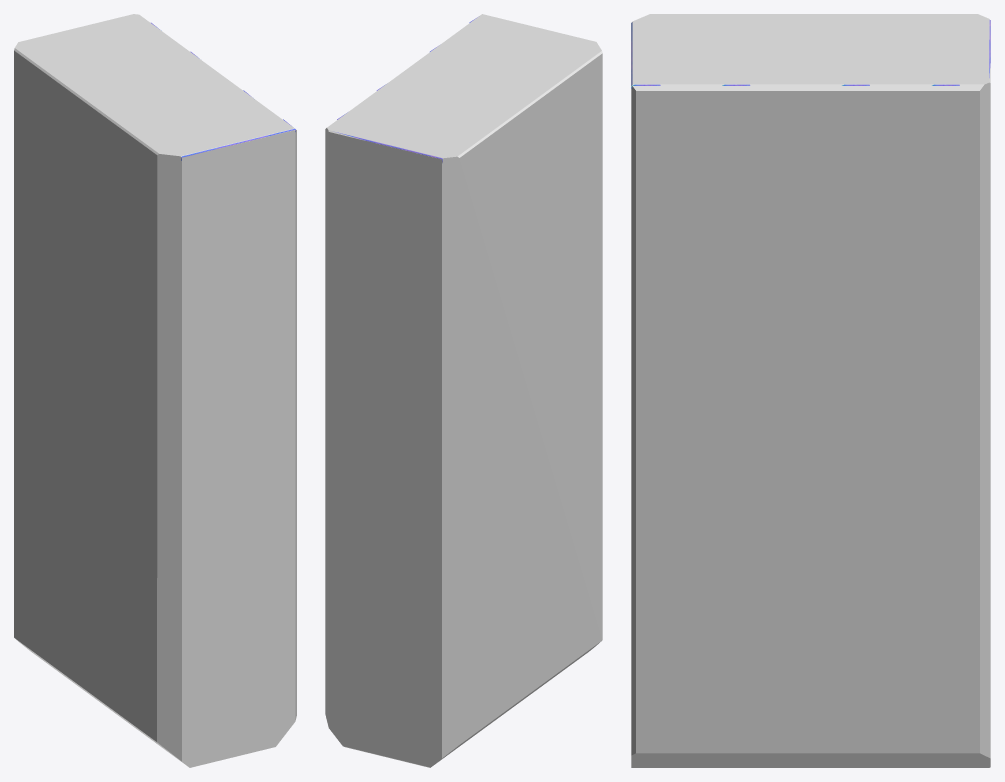
File: SM_wall_mid_02.fbx
3 views of the same model, side by side, from view 1: azimuth 30°, elevation 25°; view 2: azimuth 150°, elevation 25°; view 3: azimuth 270°, elevation 25° (orthographic). The views are drawn at different scales.
Visible parts, largest first — view 1: SM_wall_mid_02_ConvexHulls; view 2: SM_wall_mid_02_ConvexHulls; view 3: SM_wall_mid_02_ConvexHulls.
Boxes of the visible parts, x1=… form: SM_wall_mid_02_ConvexHulls: x1=14, y1=14, x2=296, y2=767; SM_wall_mid_02_ConvexHulls: x1=325, y1=14, x2=602, y2=767; SM_wall_mid_02_ConvexHulls: x1=631, y1=14, x2=990, y2=767.
Bounding box in the file's own units: 242 × 502 × 1070.
